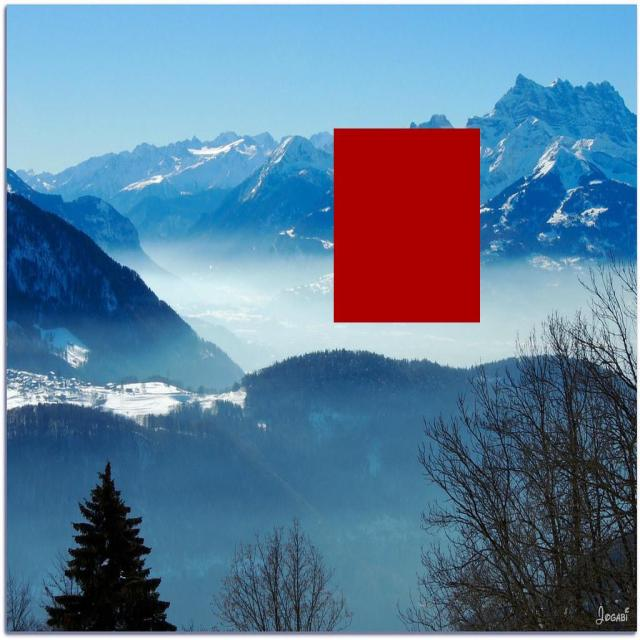RedSquare: (329, 119, 491, 332)
